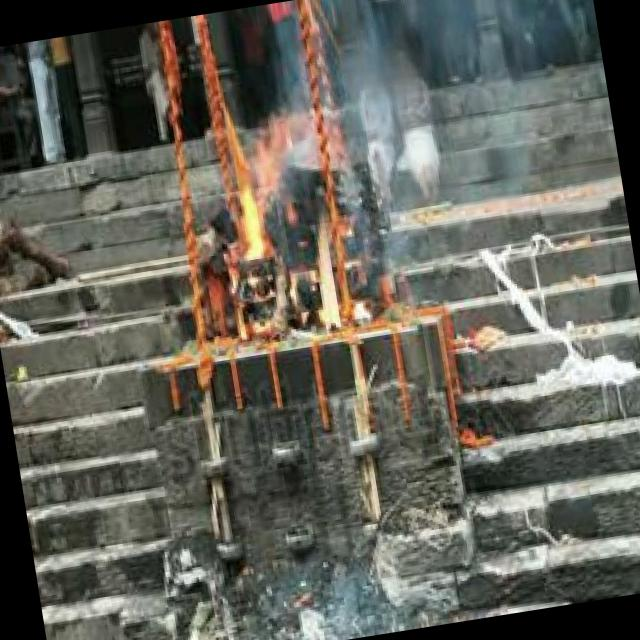Fire: (213, 113, 304, 270), (298, 210, 369, 338)
